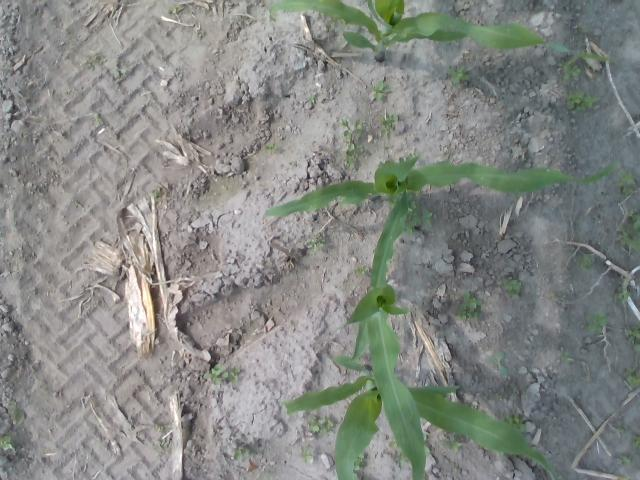Maize: (284, 354, 556, 480), (336, 190, 426, 480), (263, 155, 622, 218), (269, 0, 621, 64)
Weeds: (341, 116, 364, 168), (616, 209, 640, 252), (402, 188, 422, 236), (453, 291, 482, 321), (202, 363, 239, 385), (566, 90, 598, 111), (389, 436, 409, 466), (306, 414, 333, 436), (616, 168, 636, 196), (585, 311, 609, 334), (499, 413, 525, 433), (626, 322, 640, 358), (6, 400, 24, 425), (558, 60, 580, 80), (446, 64, 468, 84), (368, 81, 391, 100), (380, 114, 399, 137), (488, 351, 506, 375), (501, 278, 522, 298), (306, 233, 326, 253), (352, 453, 366, 480), (442, 434, 462, 452), (624, 366, 640, 388), (85, 52, 104, 70), (614, 287, 632, 305), (574, 254, 592, 272), (110, 59, 126, 78), (298, 445, 313, 463), (387, 191, 402, 209), (0, 434, 14, 450), (233, 447, 250, 460), (422, 433, 432, 454), (354, 265, 370, 277), (422, 210, 434, 226), (632, 434, 640, 452), (150, 190, 162, 202), (576, 22, 588, 34), (398, 153, 414, 162), (620, 456, 632, 467), (154, 439, 168, 448), (264, 143, 278, 152), (616, 424, 626, 436), (308, 92, 318, 104), (378, 159, 395, 166), (559, 352, 570, 362), (154, 423, 166, 432), (171, 5, 183, 14), (92, 114, 102, 122), (328, 20, 336, 29), (268, 14, 276, 22), (494, 390, 502, 398), (496, 451, 505, 458), (556, 475, 564, 480)
